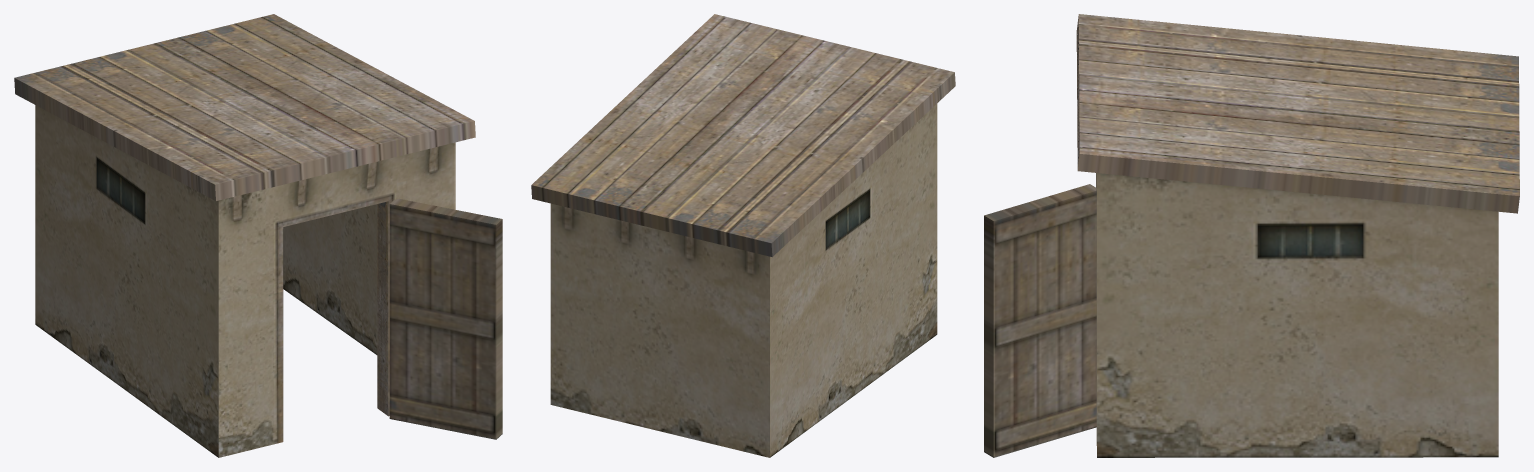
The model's file is building10.fbx.
3 renders of one model, left to right at view 1: azimuth 30°, elevation 25°; view 2: azimuth 150°, elevation 25°; view 3: azimuth 270°, elevation 25°, orthographic. The views are drawn at different scales.
Parts seen in each view (by area): view 1: polySurface1; view 2: polySurface1; view 3: polySurface1.
Part boxes in pixels (left/top/right/bottom): polySurface1: left=14, top=14, right=502, bottom=457; polySurface1: left=531, top=14, right=955, bottom=457; polySurface1: left=984, top=14, right=1519, bottom=457.
Bounding box in the file's own units: 272 × 280 × 438.
Materials: 1 (1 with a texture image).
